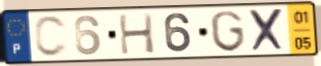6: (72, 14, 105, 57), (162, 12, 194, 55)
C: (32, 14, 70, 59)
G: (208, 9, 248, 54)
H: (116, 12, 158, 56)
X: (247, 7, 288, 54)
